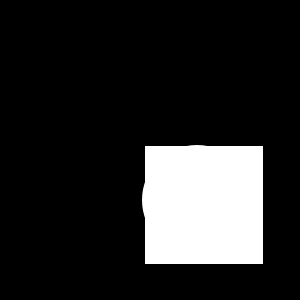circle: (145, 146, 263, 264)
rectangle: (142, 145, 252, 255)
